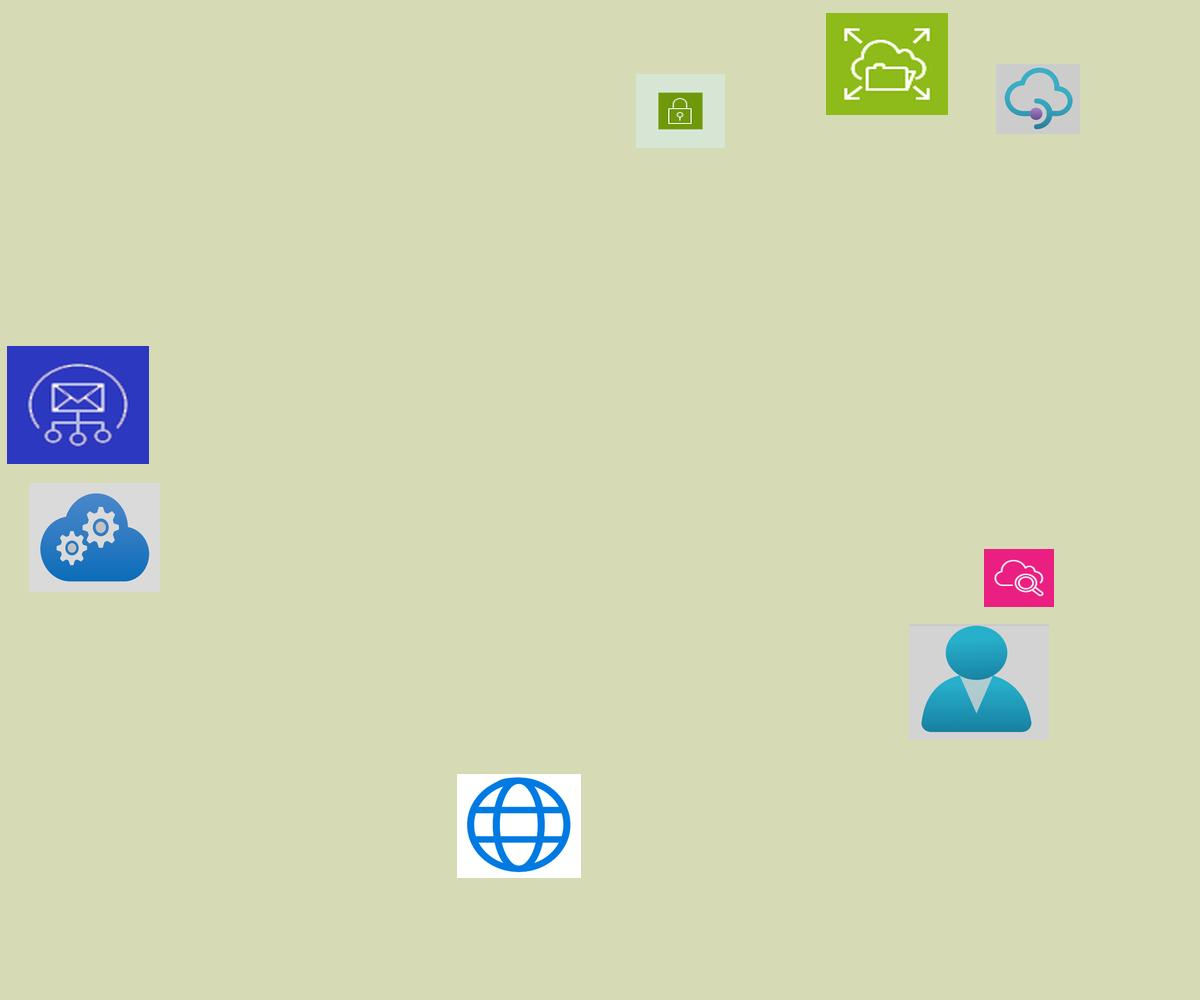AWS-CloudWatch: (984, 549, 1054, 607)
AWS-EFS: (826, 13, 948, 115)
AWS-Public-subnet: (636, 74, 725, 148)
AWS-Simple-Email-Service: (7, 346, 149, 464)
Azure_api_gateway: (996, 64, 1080, 134)
Azure_cloud_services: (29, 483, 160, 592)
Azure_http: (457, 774, 581, 878)
Azure_users: (909, 624, 1049, 740)
